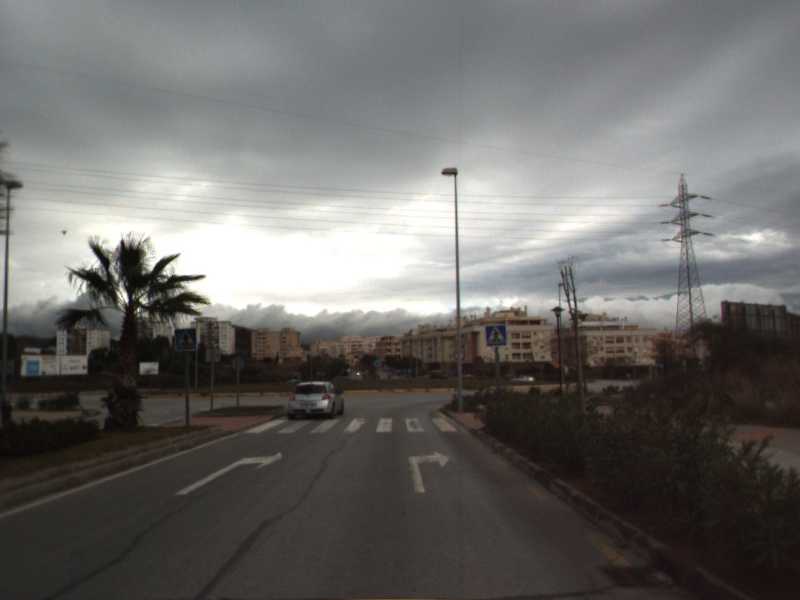RIGHT: (172, 450, 284, 497), (406, 448, 452, 494)
